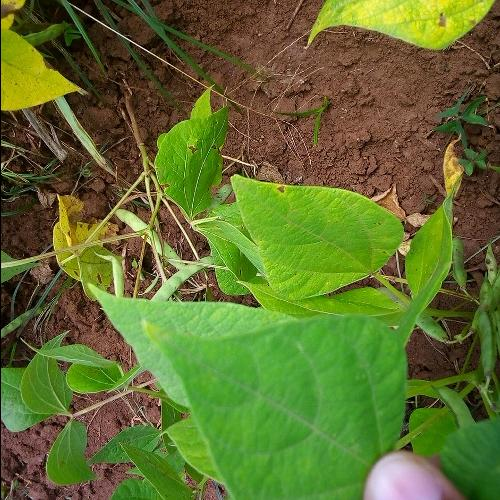sehat: (195, 305, 396, 480)
